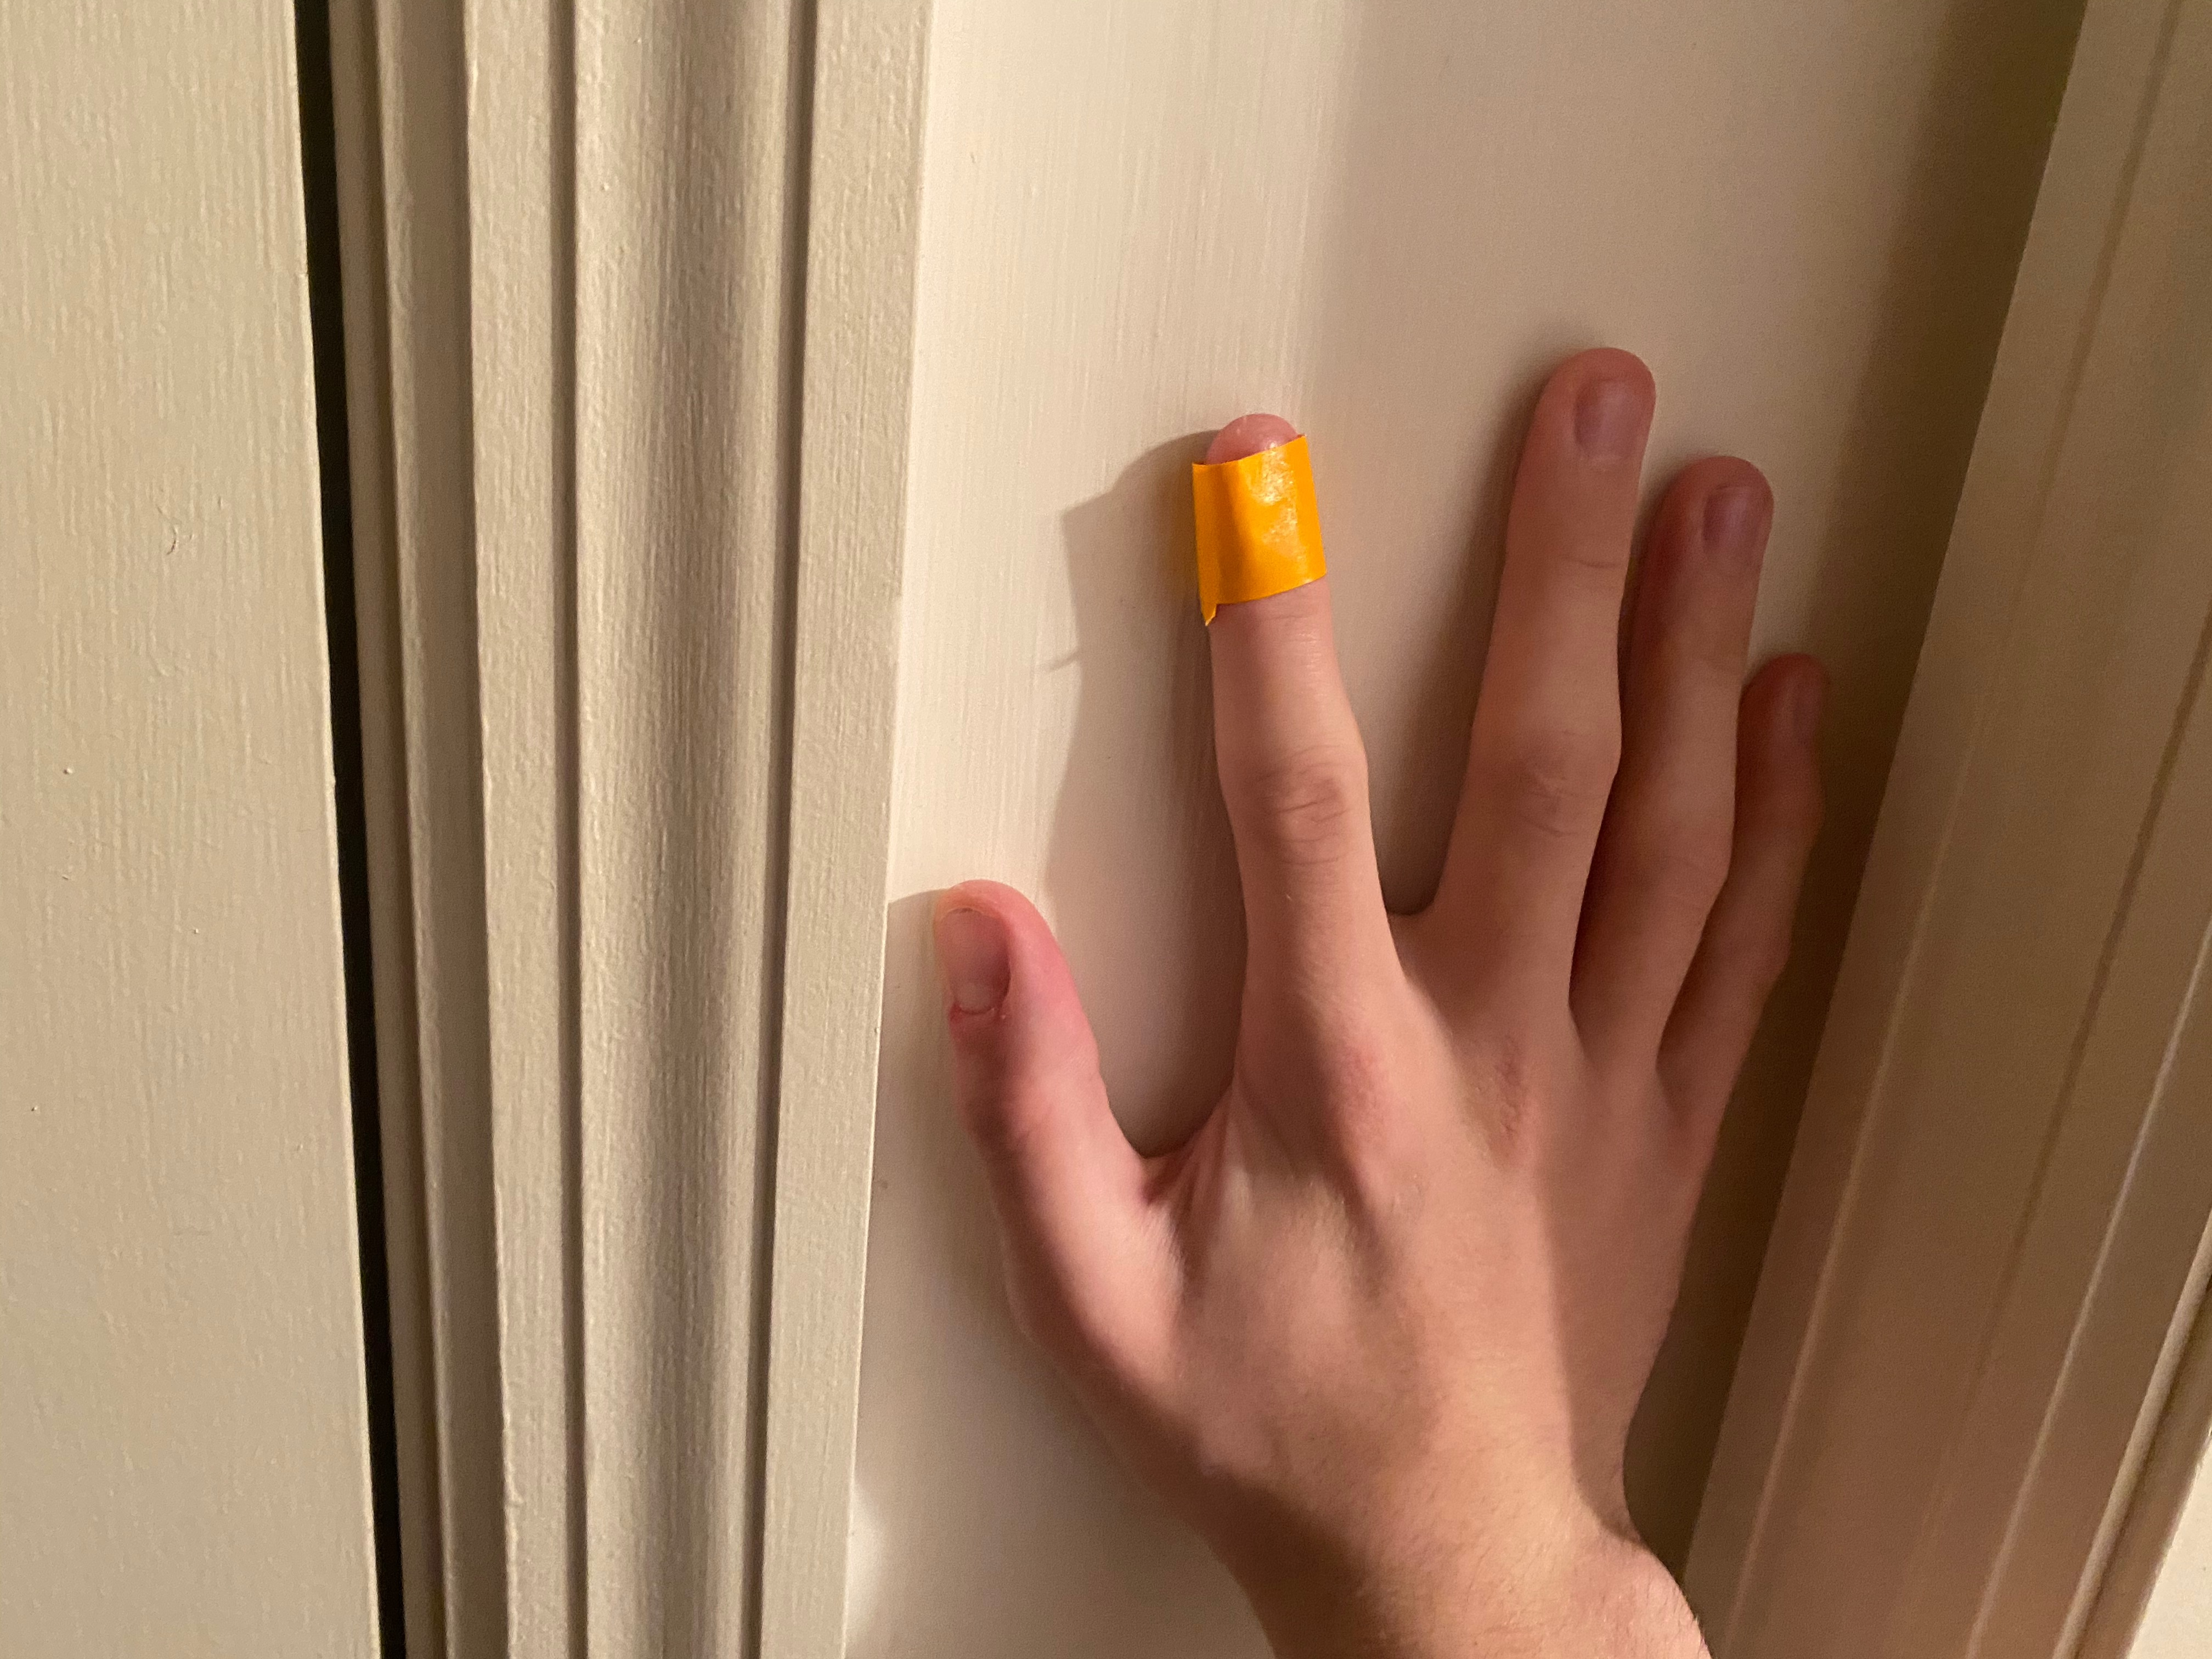fingertip: (1179, 401, 1367, 650)
